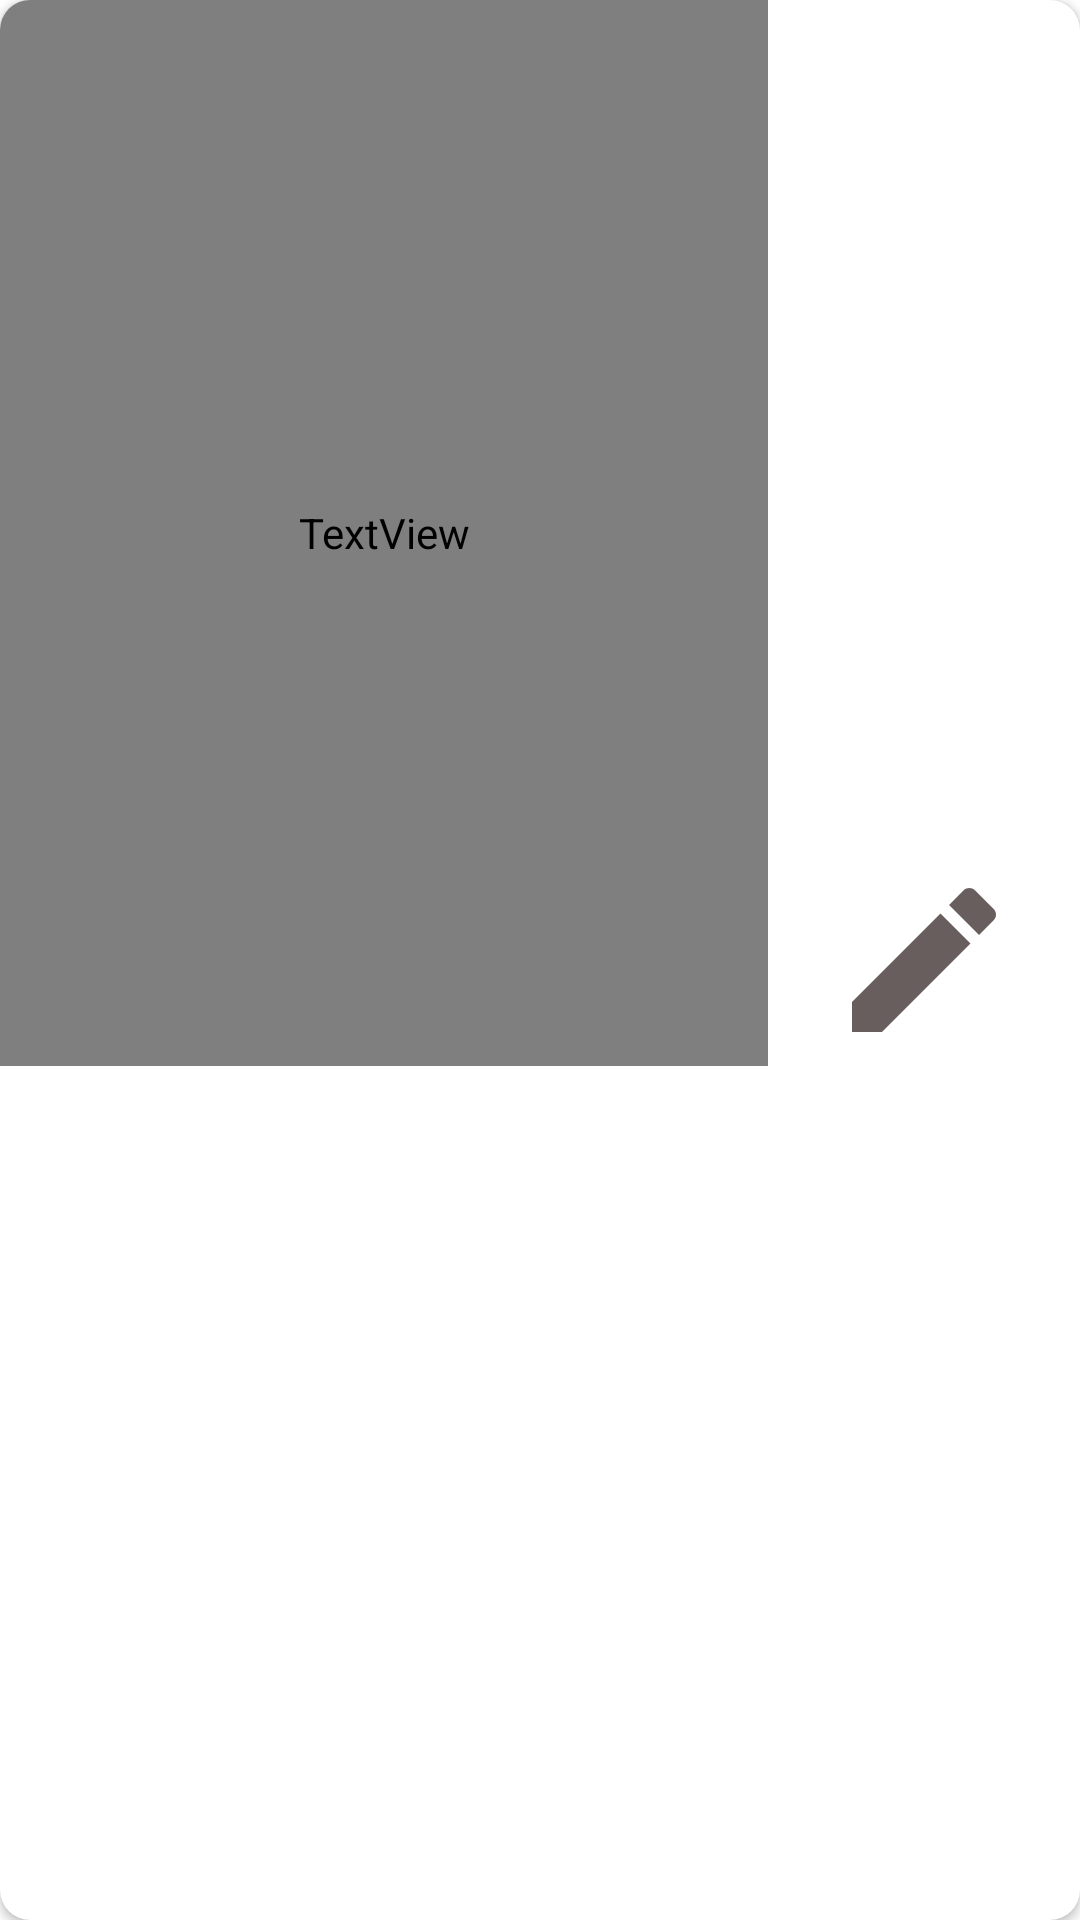

Where to tap for icons on this 1080 x 1920 app screen, as (x=x, y=y):
edit: (x=924, y=960)
